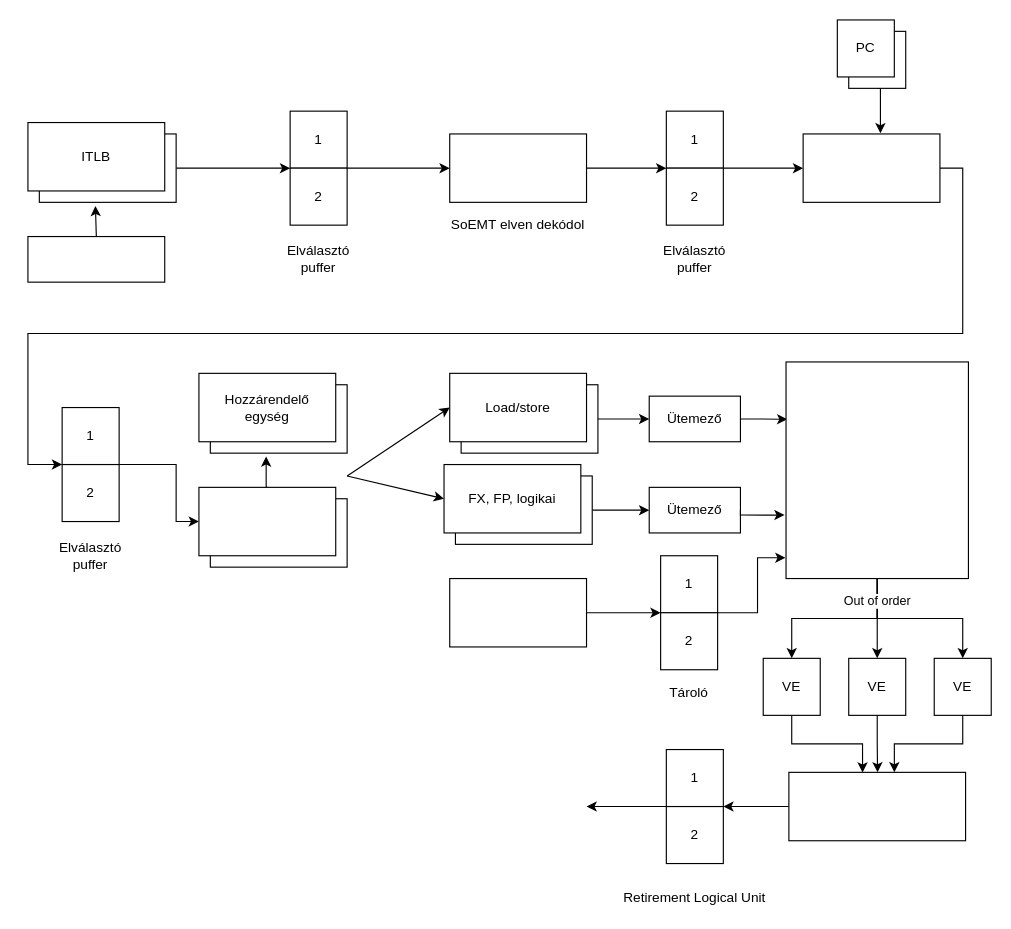
This 1011x929 diagram has some shape labels left out. Each missing label, with the centre of its shape:
"Dekóder" belongs at point 518,167.
"L1 cache (RISC-szerű utasítások)" belongs at point 871,167.
"L1 data cache" belongs at point 518,612.
"L2 cache" belongs at point 96,258.
"Regiszter átnevező" belongs at point 267,521.
"Visszaíró regiszter" belongs at point 877,806.
"Várakoztató állomás" belongs at point 876,470.
